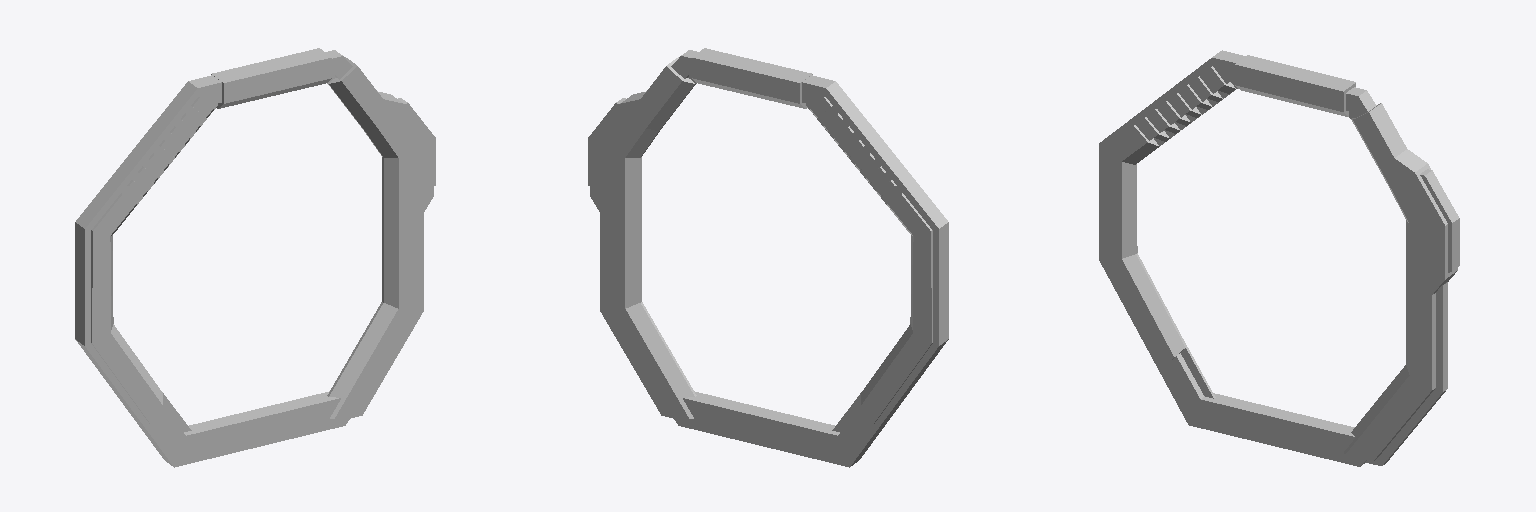
Rendered from ring_straight.obj.
The picture shows the model from 3 angles: view 1: azimuth 30°, elevation 25°; view 2: azimuth 150°, elevation 25°; view 3: azimuth 330°, elevation 25°; orthographic projection.
Parts seen in each view (by area): view 1: Ring_Straight_1_Cube; view 2: Ring_Straight_1_Cube; view 3: Ring_Straight_1_Cube.
Boxes of the visible parts, <box> form: Ring_Straight_1_Cube: <box>75,48,435,467</box>; Ring_Straight_1_Cube: <box>588,48,948,467</box>; Ring_Straight_1_Cube: <box>1099,50,1459,466</box>.
Size of the model in its own units: 19.59 by 19.89 by 1.24.